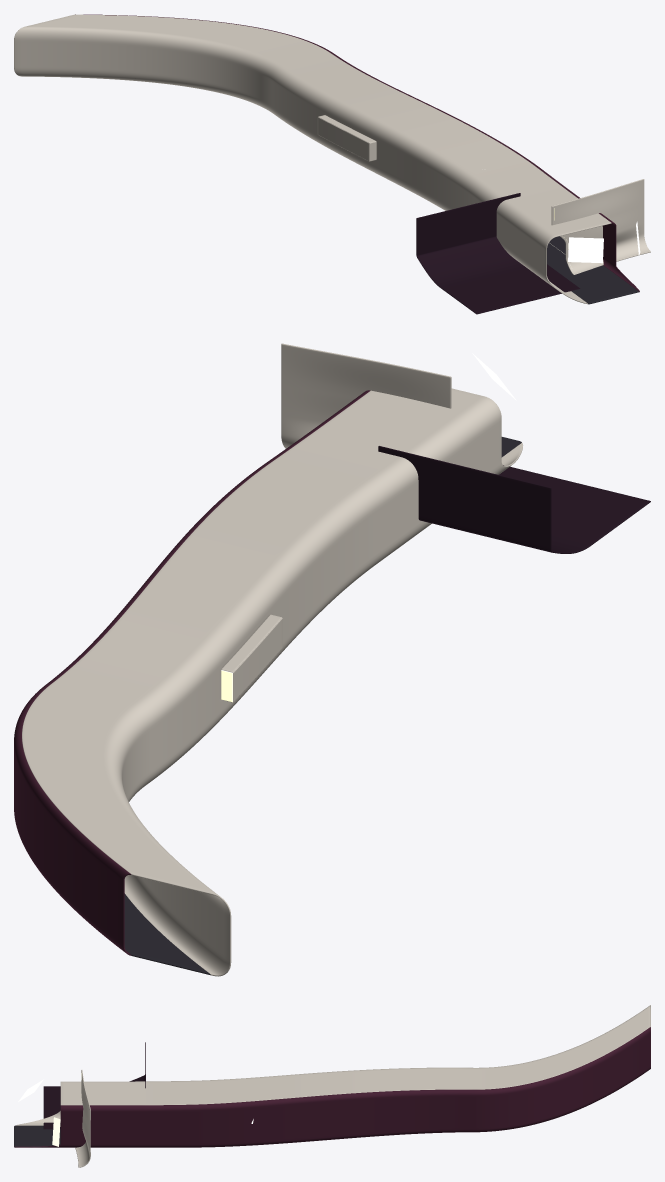
Rendered from chamber.glb.
The picture shows the model from 3 angles, top to bottom: view 1: azimuth 30°, elevation 25°; view 2: azimuth 150°, elevation 25°; view 3: azimuth 270°, elevation 25°; orthographic projection. The views are drawn at different scales.
Visible parts, largest first — view 1: Shared_Unfolding_Canopy, Retained_Hero_Wing_And_Floor, Shared_Sculpted_Cove, Deep_Burgundy_Continuous_Return, Warm_Recessed_Lightwell, Warm portrait softbox; view 2: Shared_Unfolding_Canopy, Retained_Hero_Wing_And_Floor, Deep_Burgundy_Continuous_Return, Shared_Sculpted_Cove, Warm_Recessed_Lightwell; view 3: Deep_Burgundy_Continuous_Return, Shared_Unfolding_Canopy, Shared_Sculpted_Cove, Retained_Hero_Wing_And_Floor.
Part boxes in pixels (bbox=[...]): Shared_Unfolding_Canopy: bbox=[14, 14, 638, 304]; Retained_Hero_Wing_And_Floor: bbox=[416, 193, 580, 314]; Shared_Sculpted_Cove: bbox=[551, 179, 650, 274]; Deep_Burgundy_Continuous_Return: bbox=[75, 14, 639, 291]; Warm_Recessed_Lightwell: bbox=[317, 117, 369, 160]; Warm portrait softbox: bbox=[568, 237, 603, 263]; Shared_Unfolding_Canopy: bbox=[22, 388, 522, 976]; Retained_Hero_Wing_And_Floor: bbox=[378, 446, 650, 553]; Deep_Burgundy_Continuous_Return: bbox=[14, 390, 370, 955]; Shared_Sculpted_Cove: bbox=[281, 343, 451, 448]; Warm_Recessed_Lightwell: bbox=[233, 618, 282, 701]; Deep_Burgundy_Continuous_Return: bbox=[14, 1027, 650, 1147]; Shared_Unfolding_Canopy: bbox=[14, 1005, 650, 1146]; Shared_Sculpted_Cove: bbox=[75, 1070, 90, 1167]; Retained_Hero_Wing_And_Floor: bbox=[43, 1042, 145, 1129].
Size of the model in its own units: 69.21 by 15.1 by 150.
